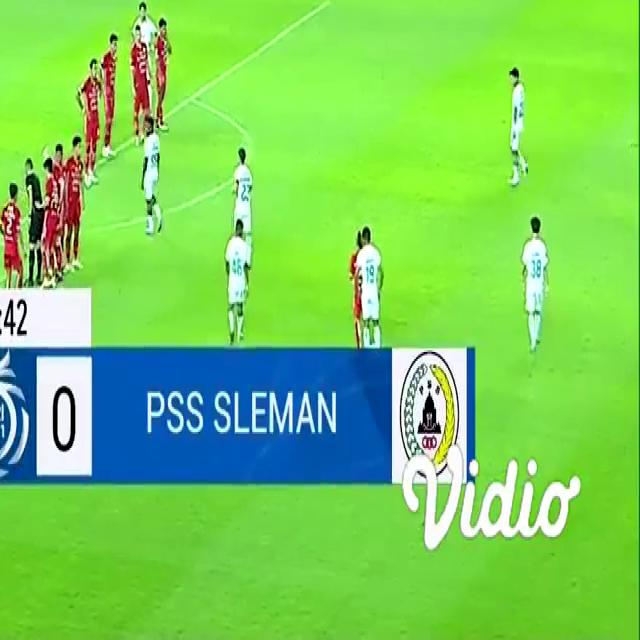referee: (24, 152, 49, 280)
soccer-player: (507, 216, 559, 362), (492, 60, 538, 194), (220, 143, 262, 266), (220, 214, 253, 340), (357, 224, 390, 346), (136, 108, 166, 241), (73, 49, 101, 184), (0, 183, 30, 292), (68, 132, 88, 276), (102, 27, 120, 165)
